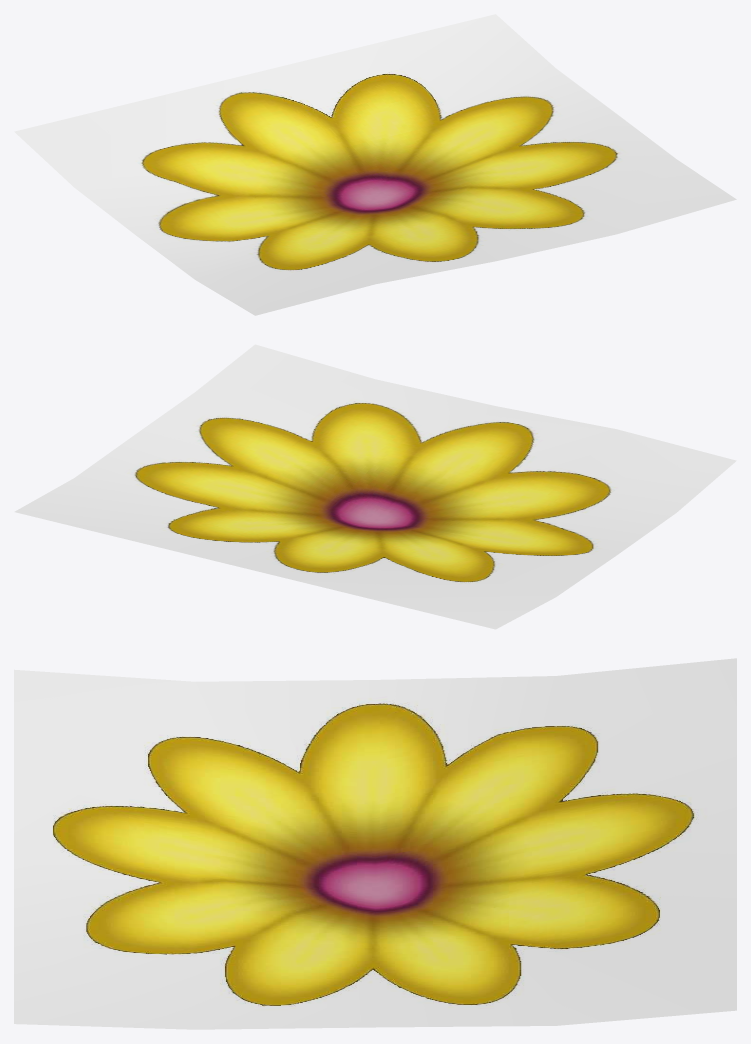
The model's file is Flower.fbx.
The picture shows the model from 3 angles, top to bottom: view 1: azimuth 30°, elevation 25°; view 2: azimuth 150°, elevation 25°; view 3: azimuth 270°, elevation 25°; orthographic projection. The views are drawn at different scales.
Parts seen in each view (by area): view 1: Plane1479; view 2: Plane1479; view 3: Plane1479.
Boxes of the visible parts, box(x1,y1,x2,y2) form: Plane1479: box(14, 14, 736, 315); Plane1479: box(14, 344, 736, 629); Plane1479: box(14, 658, 736, 1029).
Bounding box in the file's own units: 61.37 × 4.61 × 53.21.
1 material, 1 textured.
